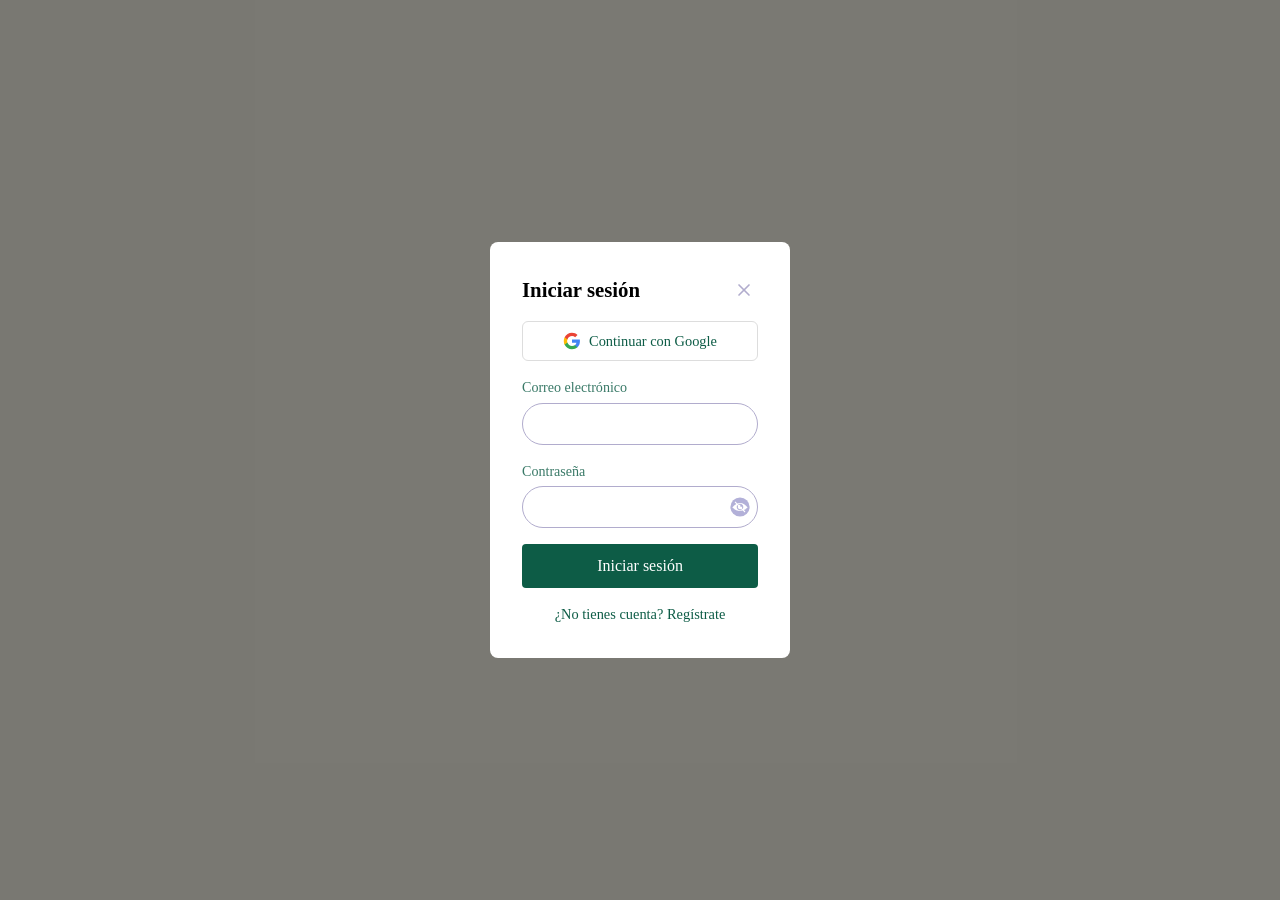
Test: LoginModal component › does not expose an unexpected sign-in error
This screenshot has width=1280, height=900.
Type "test@example.com" into the field labelled "Correo electrónico". click: [640, 424]
box: [522,403,758,445]
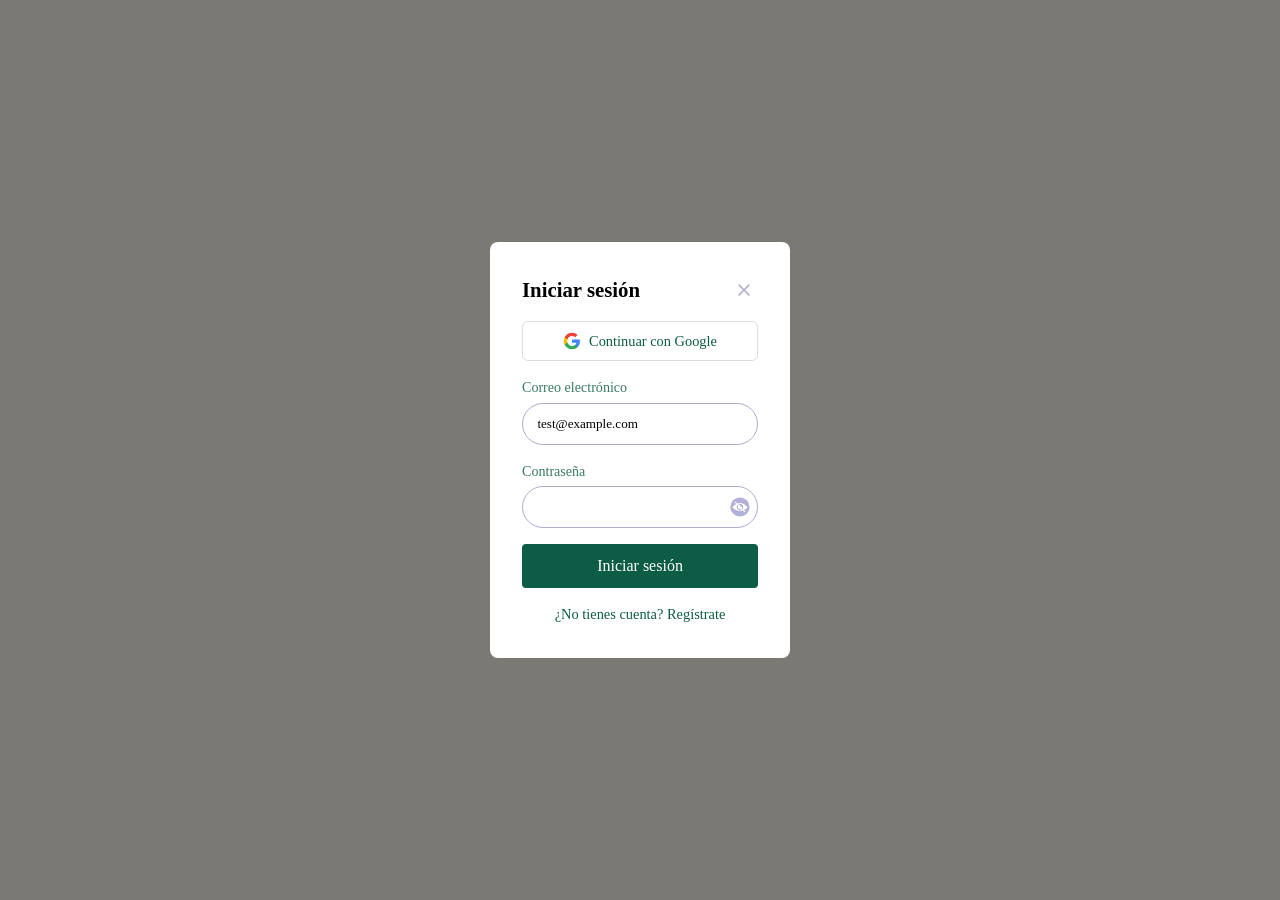
Type "password123" into the password field labelled "Contraseña". click: [640, 508]
box: [522,486,758,528]
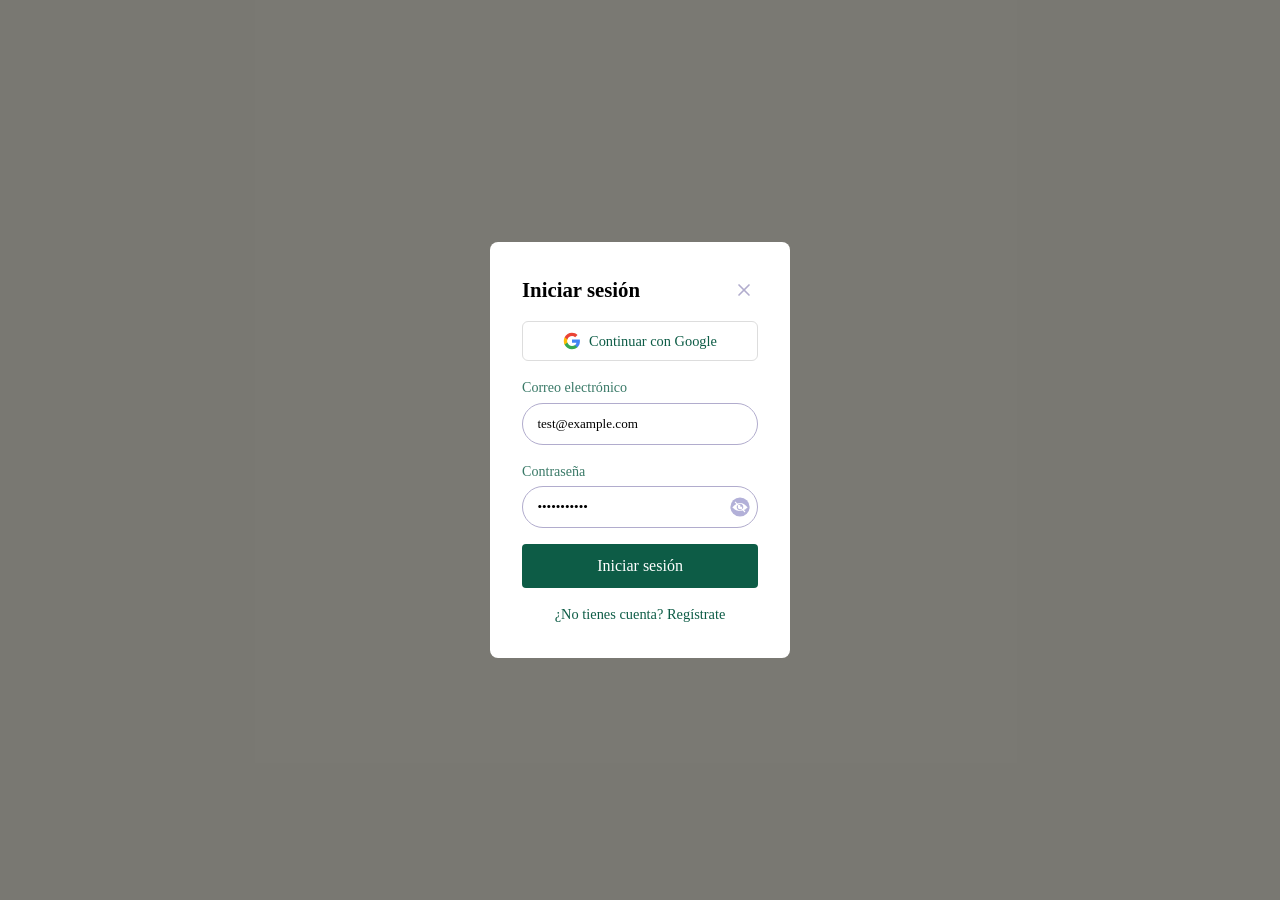
Click the button "Iniciar sesión". click: [640, 566]
box: [522,544,758,588]
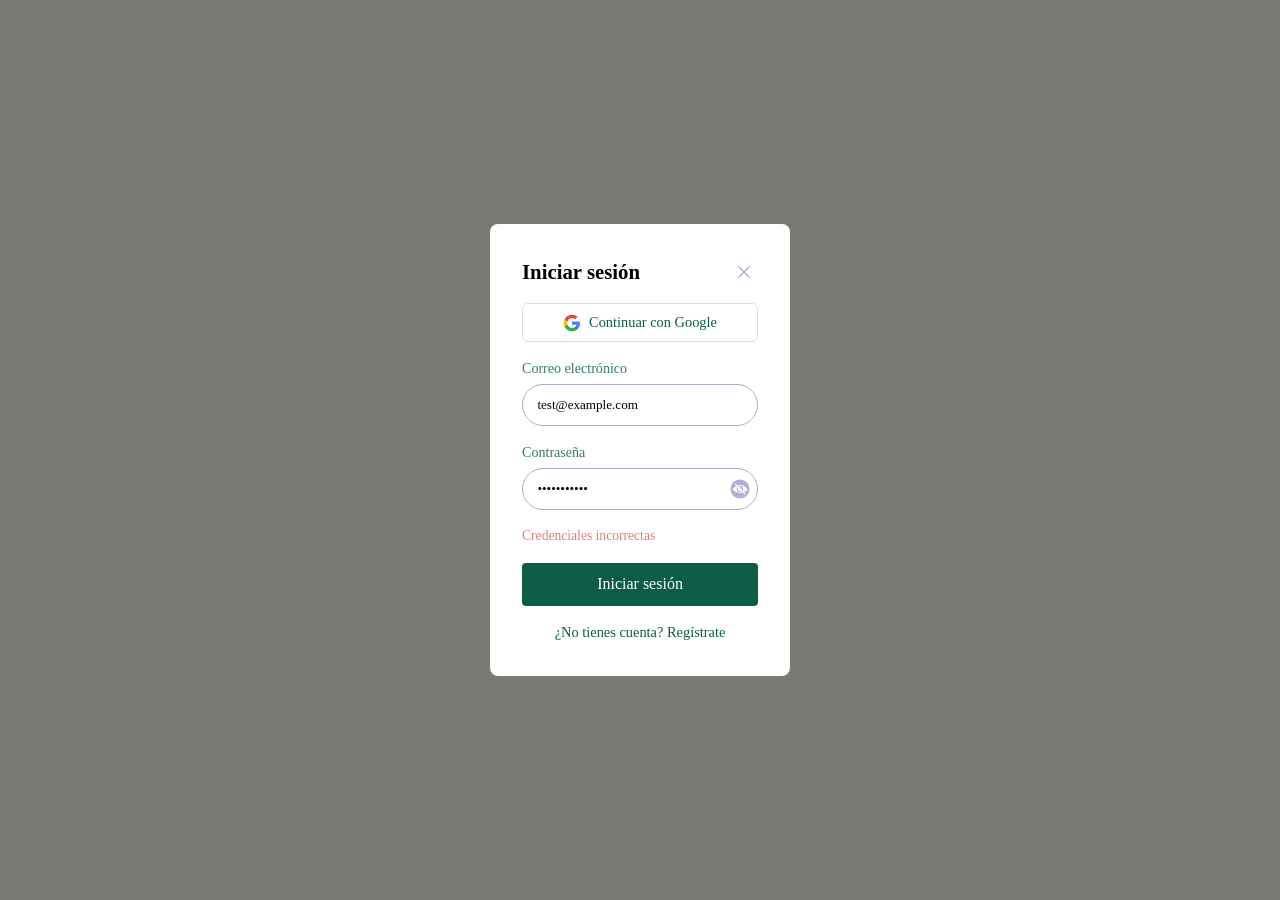
Expected: the button "Iniciar sesión" is enabled, [522,563,758,606]
Expected: the text "Credenciales incorrectas" is shown, [522,528,655,543]
